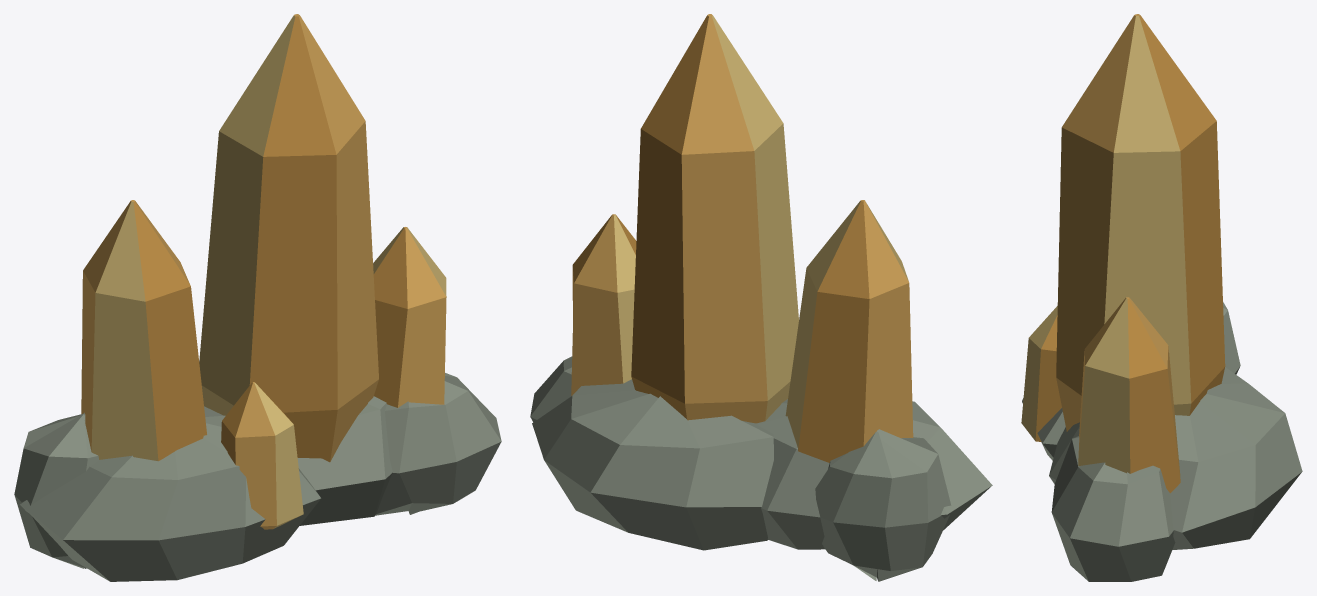
Rendered from crystal1.glb.
3 views of the same model, side by side, from view 1: azimuth 30°, elevation 25°; view 2: azimuth 150°, elevation 25°; view 3: azimuth 270°, elevation 25° (orthographic). The views are drawn at different scales.
Visible parts, largest first — view 1: crystal1; view 2: crystal1; view 3: crystal1.
Part boxes in pixels (x1,y1,x2,y2): crystal1: (14,14,501,581); crystal1: (530,14,992,581); crystal1: (1021,14,1302,581).
Bounding box in the file's own units: 1.46 × 1.61 × 0.7906.
